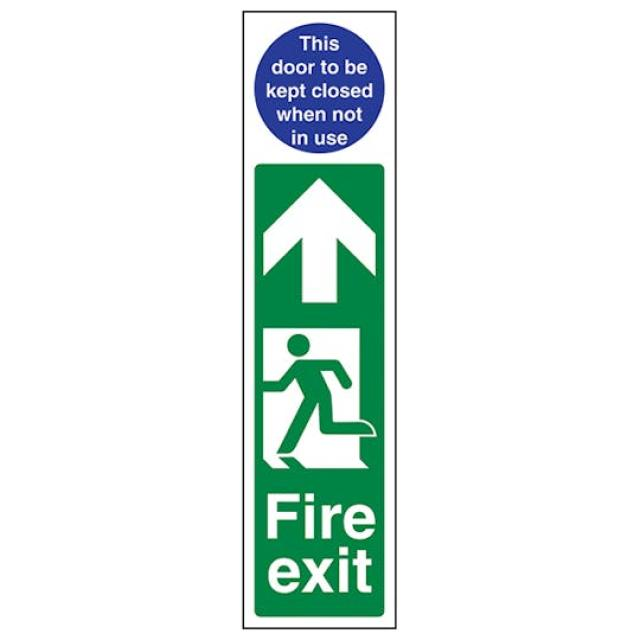exit_sign: (221, 6, 407, 630)
